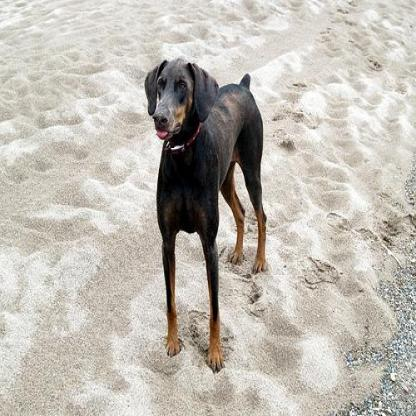Doberman: (141, 56, 269, 377)
